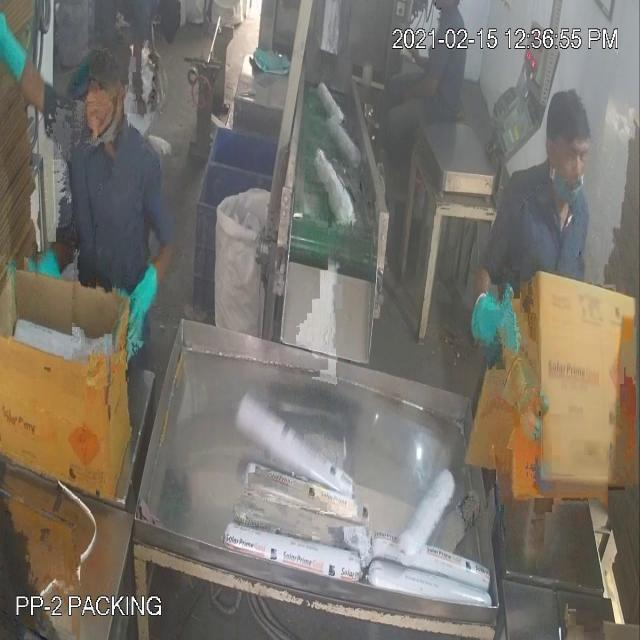Gloves: (16, 49, 493, 318)
